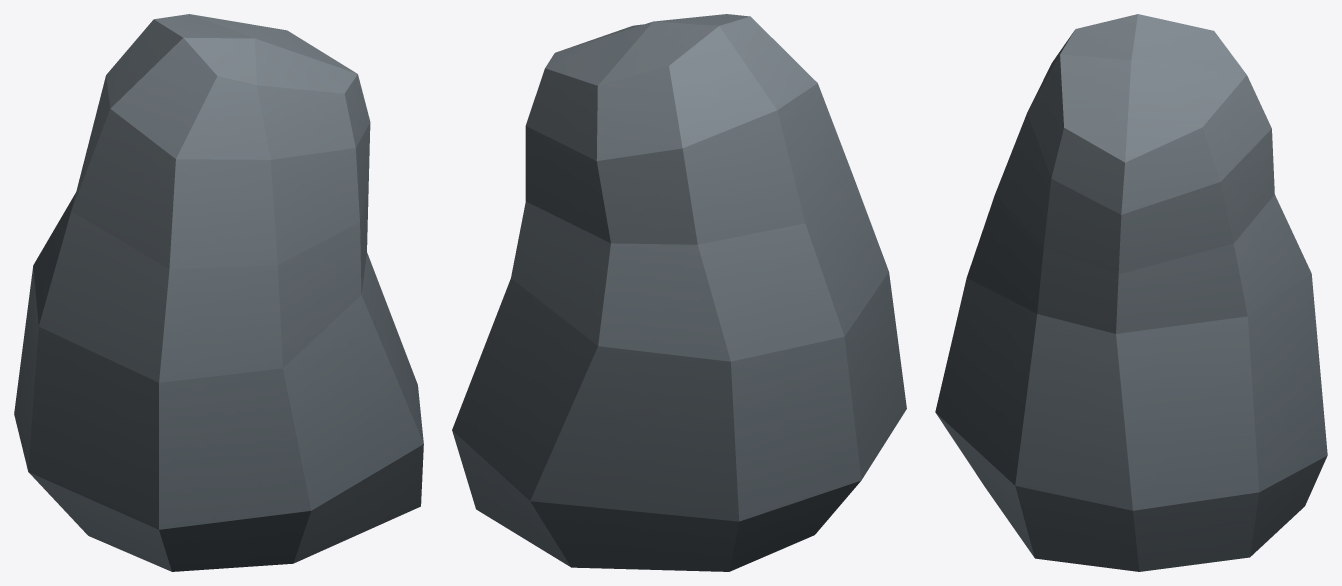
File: skała4.fbx
3 views of the same model, side by side, from view 1: azimuth 30°, elevation 25°; view 2: azimuth 150°, elevation 25°; view 3: azimuth 270°, elevation 25° (orthographic). The views are drawn at different scales.
Visible parts, largest first — view 1: skała4; view 2: skała4; view 3: skała4.
Part boxes in pixels (x1,y1,x2,y2): skała4: (14,14,423,571); skała4: (452,14,906,571); skała4: (935,14,1327,571).
Size of the model in its own units: 130 by 157 by 120.
